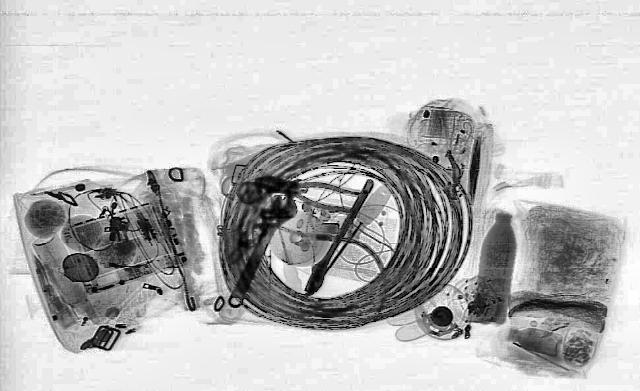Wrench: (213, 192, 304, 312), (298, 177, 382, 295)
